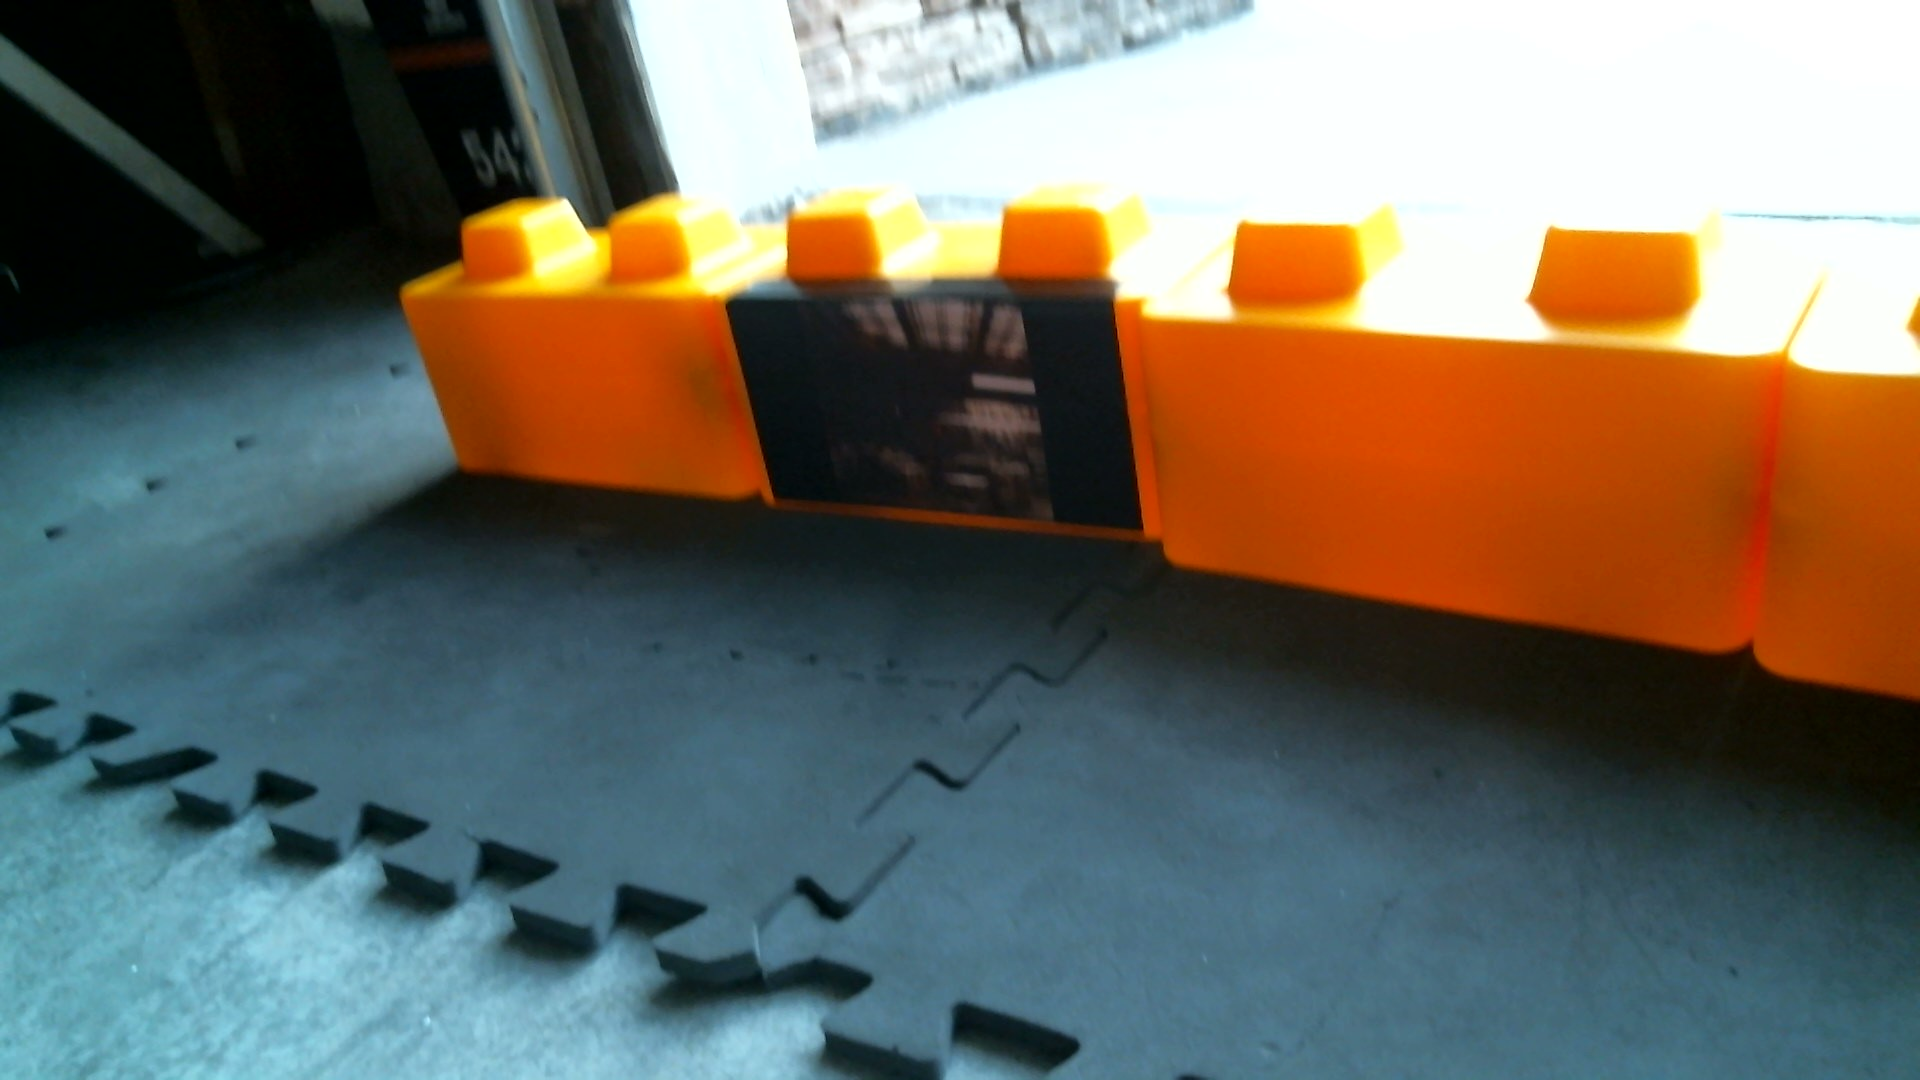center: (390, 170, 1851, 688)
